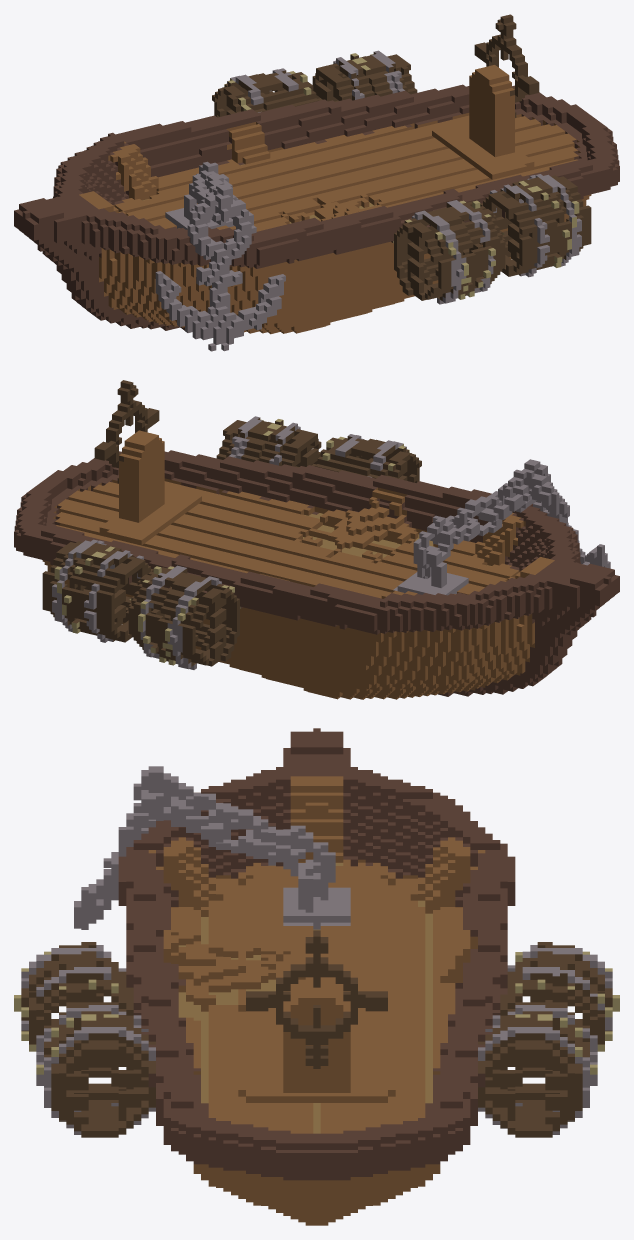
The model's file is Ship_Small_Voxelized.glb.
3 views of the same model, one above another, from view 1: azimuth 30°, elevation 25°; view 2: azimuth 150°, elevation 25°; view 3: azimuth 270°, elevation 25° (orthographic). The views are drawn at different scales.
Parts seen in each view (by area): view 1: Ship_Small_Voxelized; view 2: Ship_Small_Voxelized; view 3: Ship_Small_Voxelized.
Part boxes in pixels (box(x1,y1,x2,y2)): Ship_Small_Voxelized: box(14, 14, 619, 351); Ship_Small_Voxelized: box(14, 380, 619, 699); Ship_Small_Voxelized: box(14, 728, 619, 1225).
Size of the model in its own units: 5.14 by 2.01 by 3.62.
Materials: 1 (1 with a texture image).
